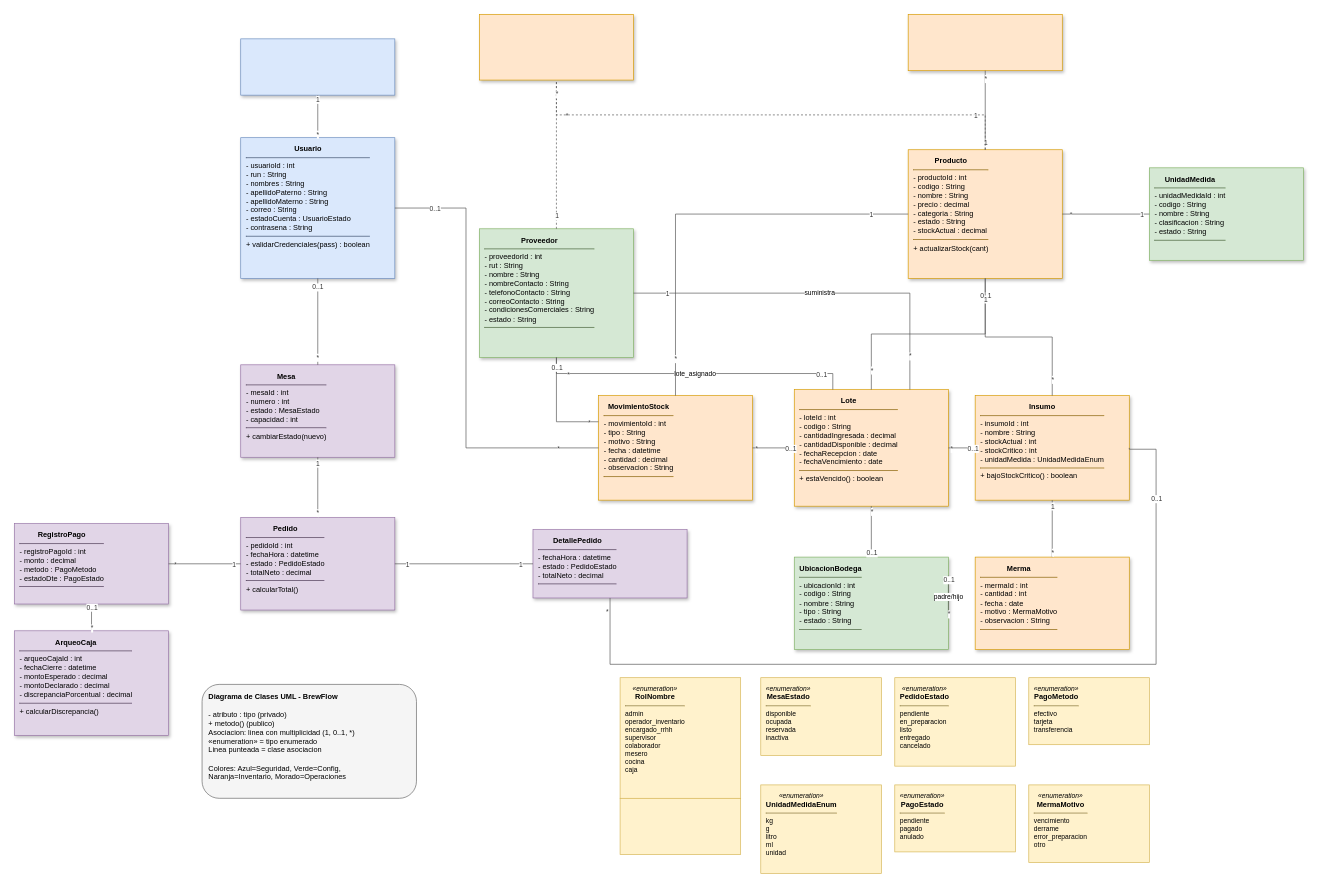
Image size: 1319x885. Some labels were removed from this diagram. The shapes that lost their labels are listed below. From the top down, each one's centre as x and y in pixels, then its label:
At point 557,48: "«association class» ProductoProveedor - fechaAsociacion : date - estado : String".
At point 985,43: "Receta - recetaId : int - cantidad : decimal".
At point 318,68: "Rol - rolId : int - rolNombre : RolNombre".
At point 680,826: "«enumeration» UsuarioEstado activo inactivo".
